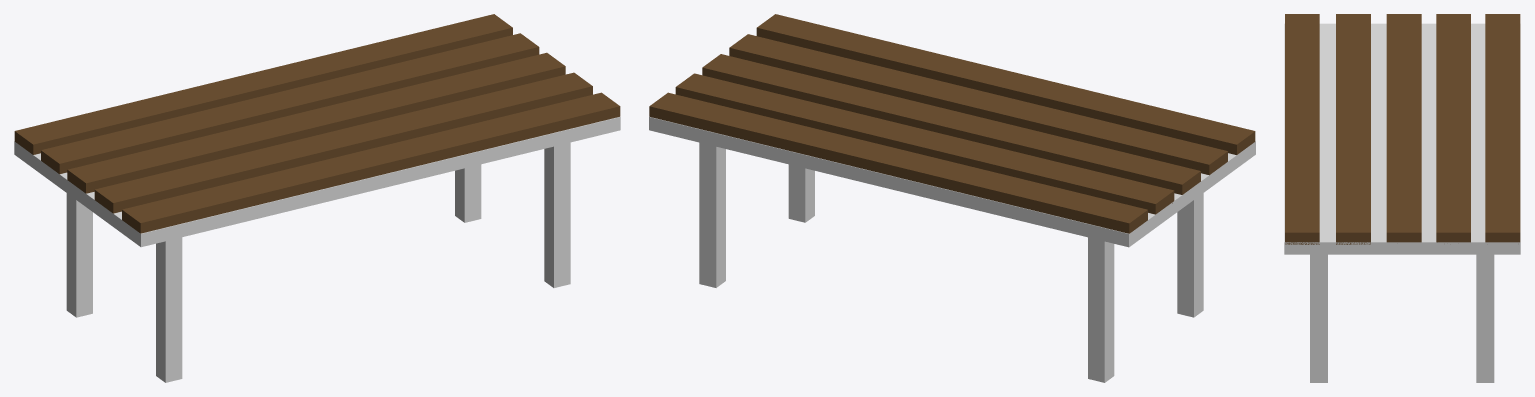
File: Meja.fbx
The picture shows the model from 3 angles, left to right: view 1: azimuth 30°, elevation 25°; view 2: azimuth 150°, elevation 25°; view 3: azimuth 270°, elevation 25°; orthographic projection. The views are drawn at different scales.
Parts seen in each view (by area): view 1: Meja.007; view 2: Meja.007; view 3: Meja.007.
Boxes of the visible parts, x1,y1,x2,y2 form: Meja.007: [14, 14, 620, 382]; Meja.007: [649, 14, 1255, 382]; Meja.007: [1284, 14, 1520, 382].
Size of the model in its own units: 741 by 264 by 339.
